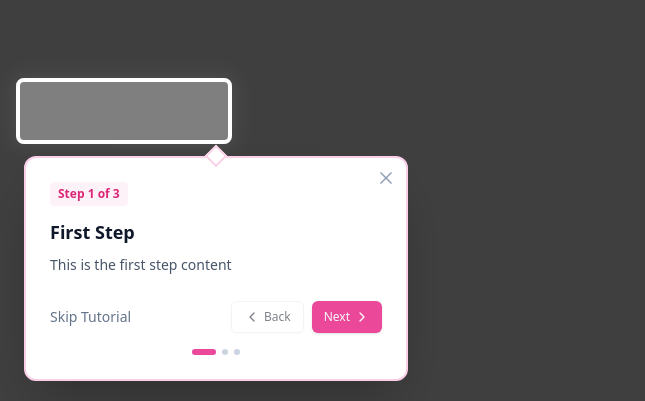
Test: TutorialV2 Component › Navigation › should show Finish button on last step
The width and height of the screenshot is (645, 401).
// Navigate to last step
Click the button "Next": x=347, y=317 [312,301,382,333]
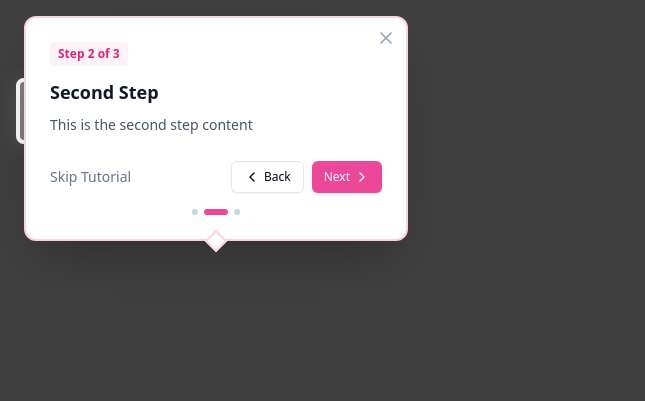
Click the button "Next": x=347, y=177 [312,161,382,193]
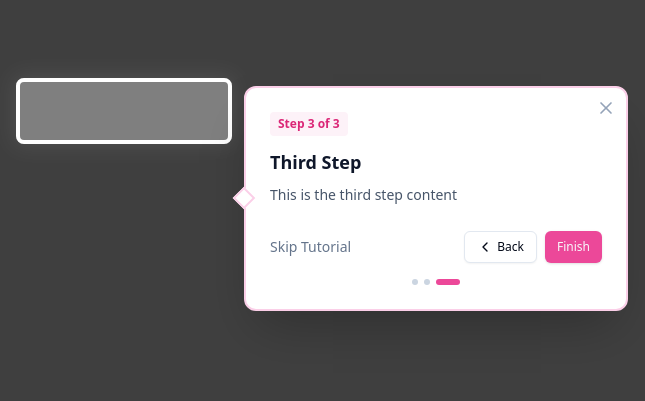
Result: the button "Finish" is shown at [545,231,602,263]
